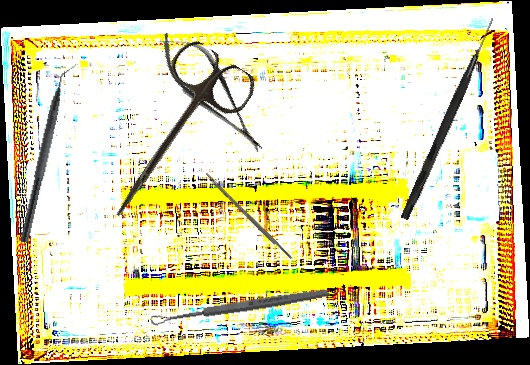Chopper: (19, 60, 80, 246)
Hook Surgical: (400, 15, 497, 222)
Iris Scissors: (85, 34, 261, 242)
Micro Scissor: (148, 19, 276, 166)
Scalpel Handle: (203, 171, 294, 262)
Surgical Spoon: (149, 286, 331, 327)
